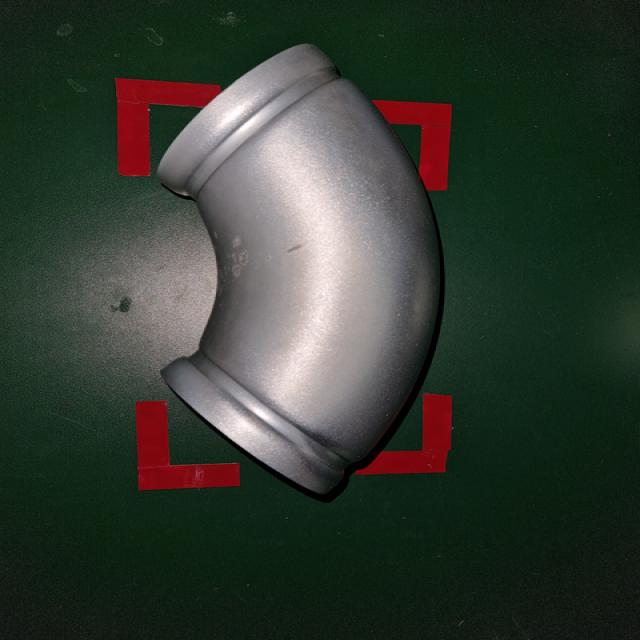Defect: (144, 43, 473, 506)
Hole: (202, 221, 320, 294)
